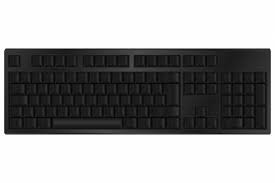keyboard: (0, 47, 275, 140)
